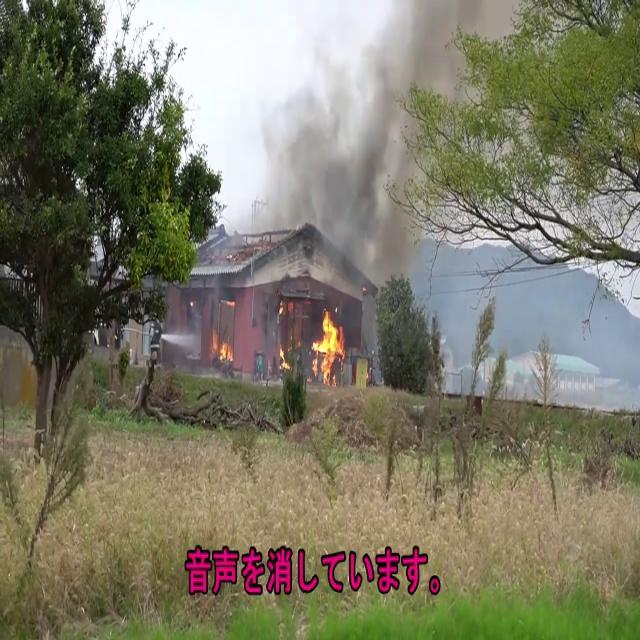Fire: (310, 303, 348, 382)
Smoke: (228, 7, 431, 283)
